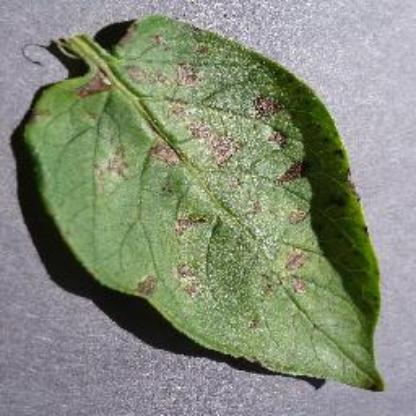Early-Blight: (20, 11, 396, 395)
